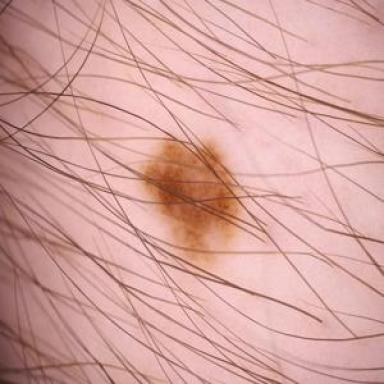Melanoma: (143, 138, 240, 268)
